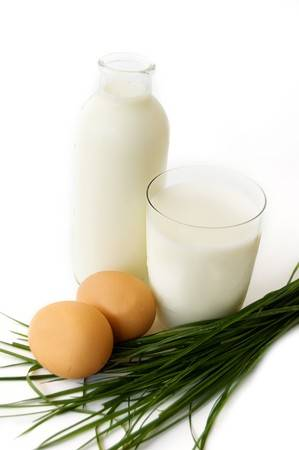glass of milk: (71, 60, 170, 289), (146, 168, 268, 319)
